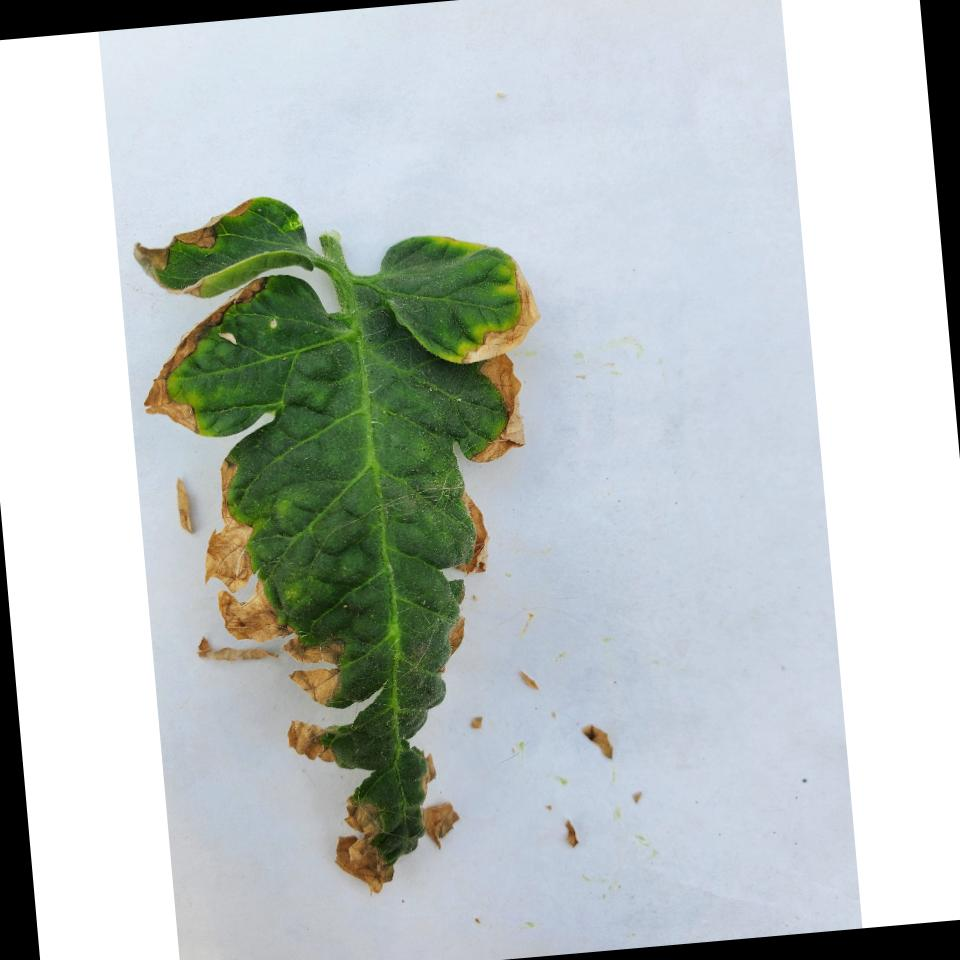tomato_bacterial_blight: (124, 181, 570, 887)
